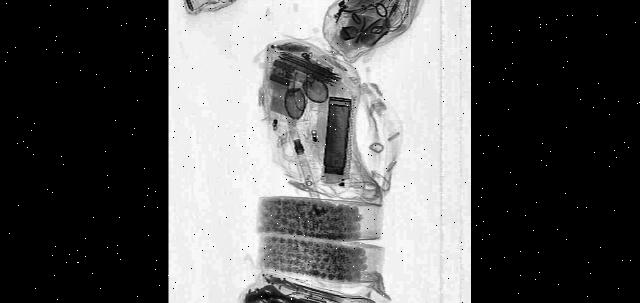Wrench: (263, 279, 328, 303)
